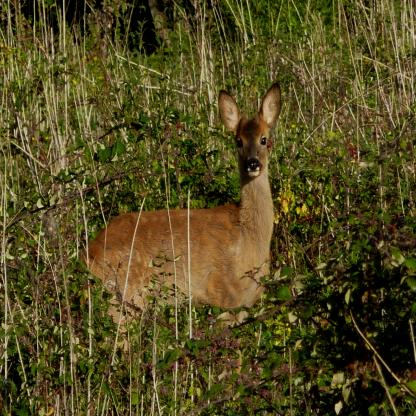Deer: (75, 79, 281, 398)
